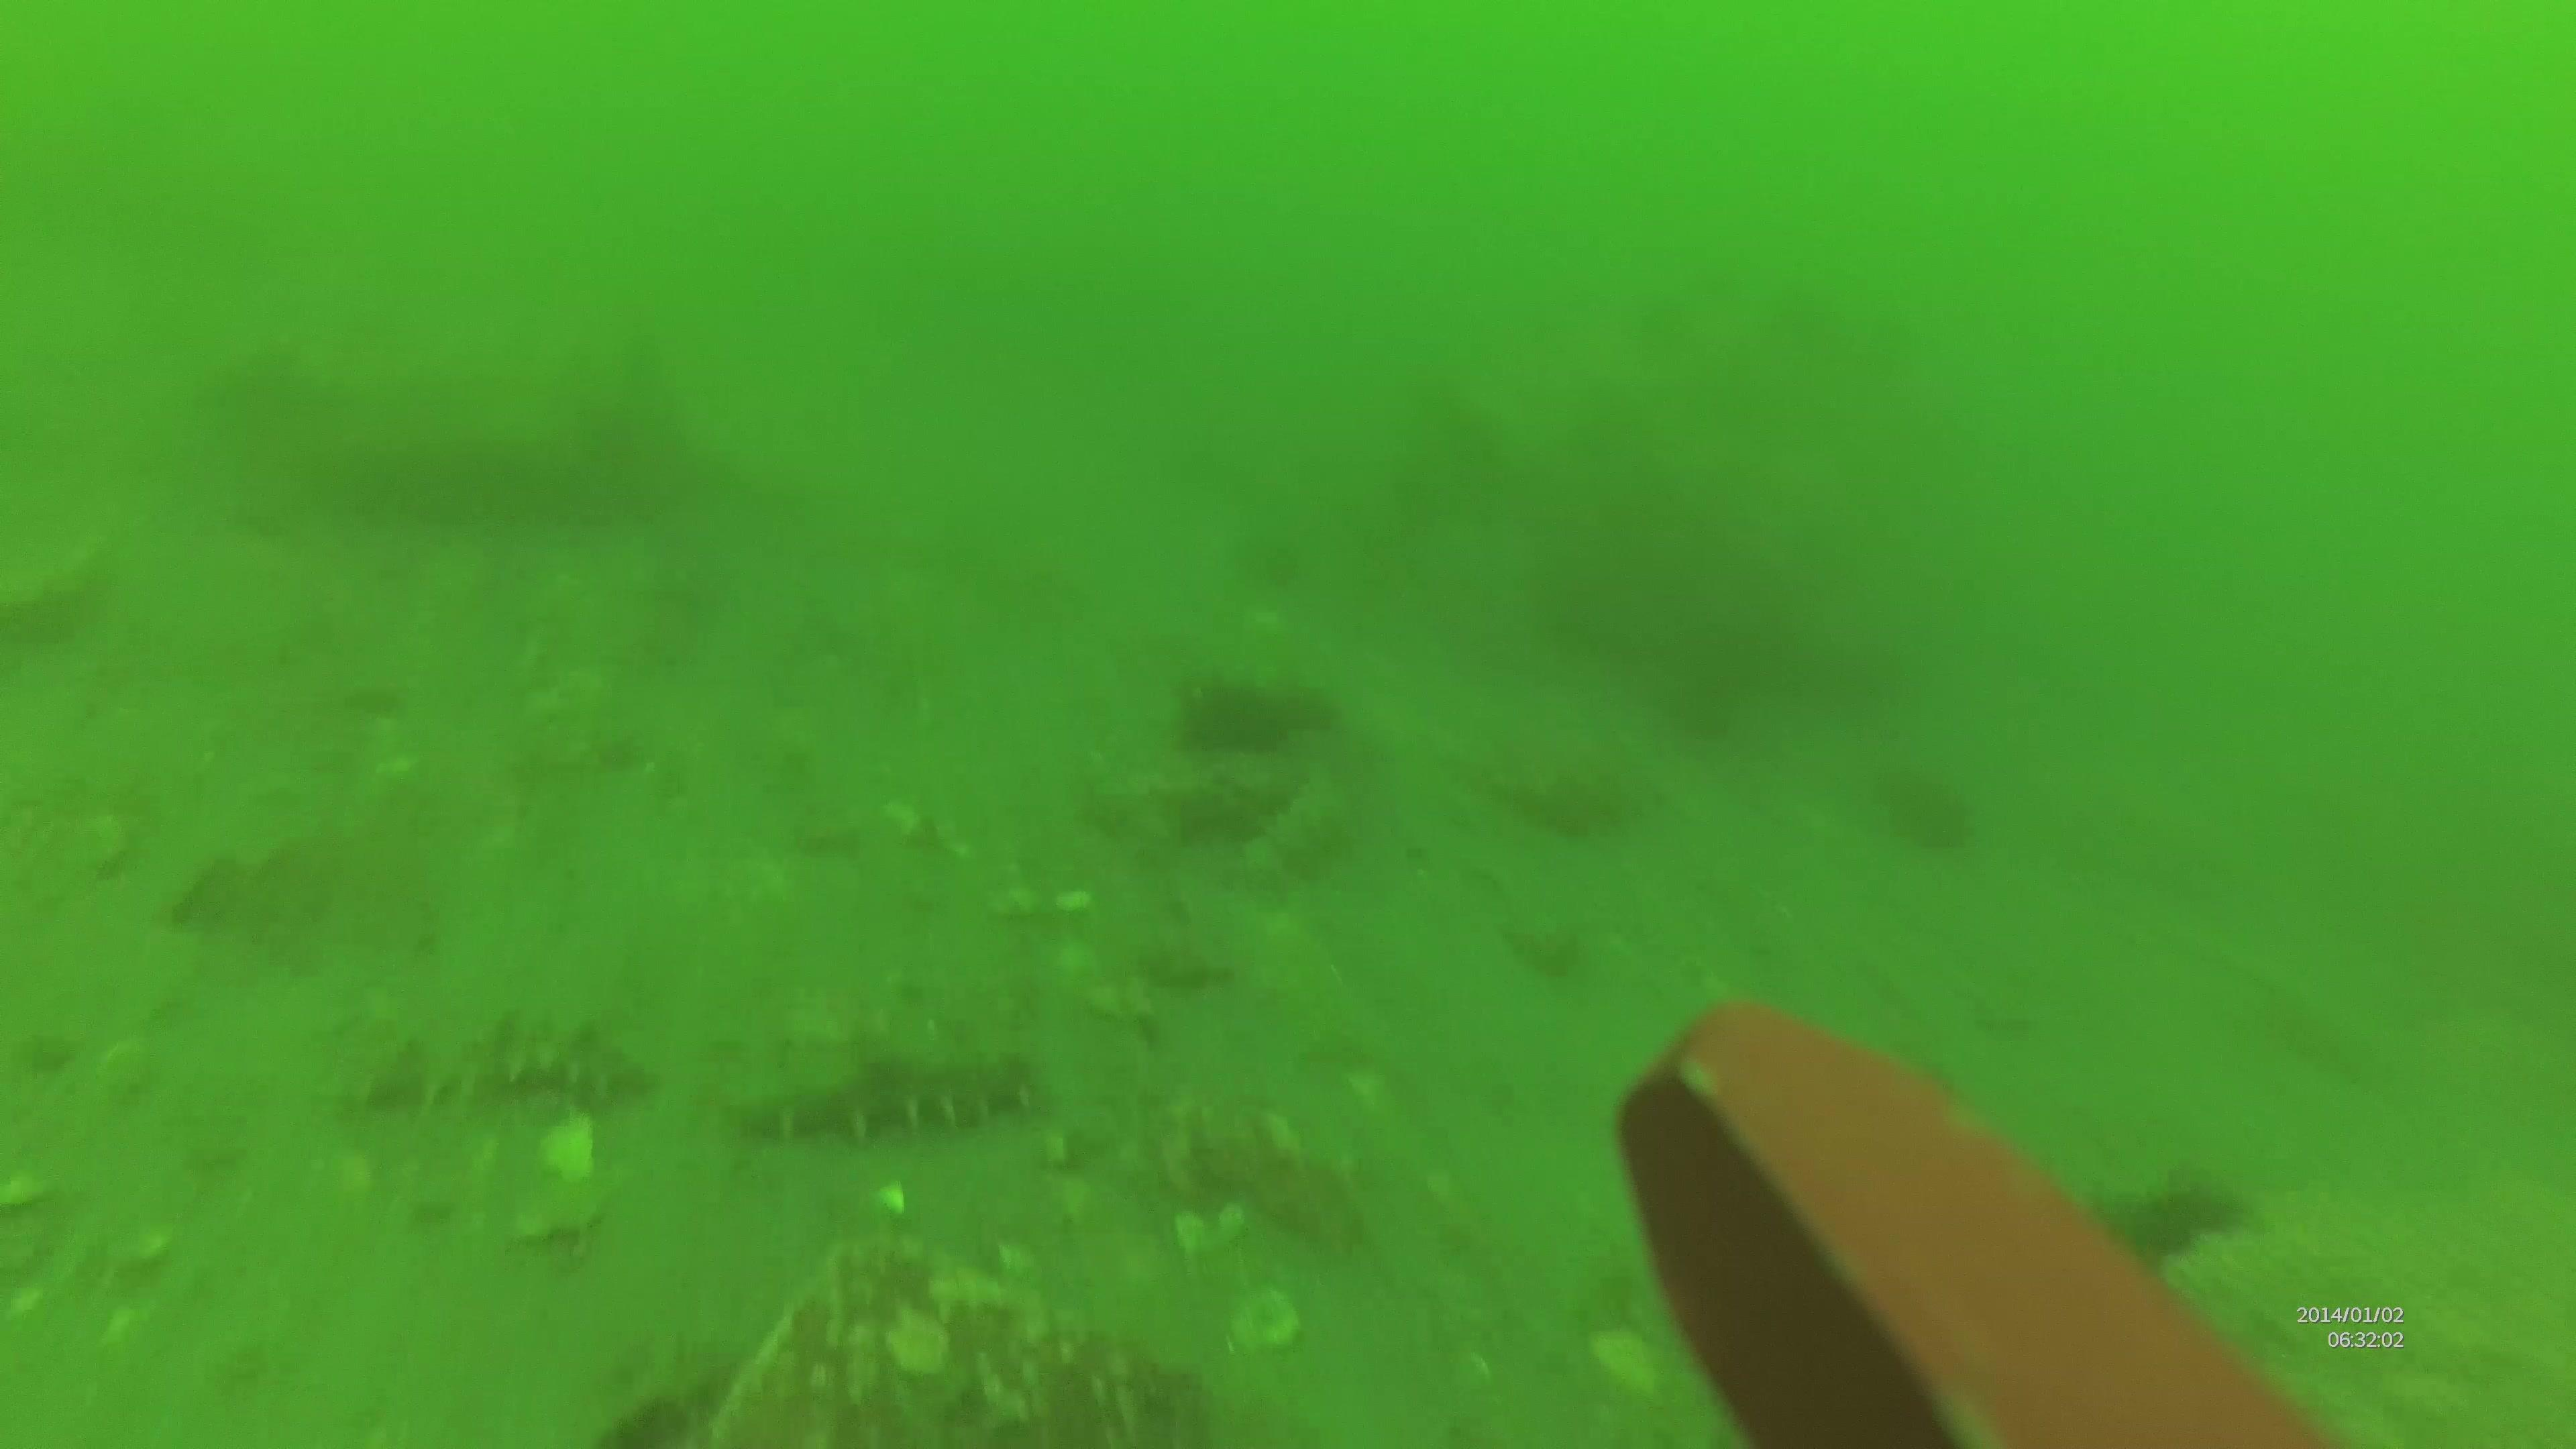echinus: (1139, 674, 1295, 764)
holothurian: (708, 1056, 1040, 1145), (352, 1021, 658, 1115)
